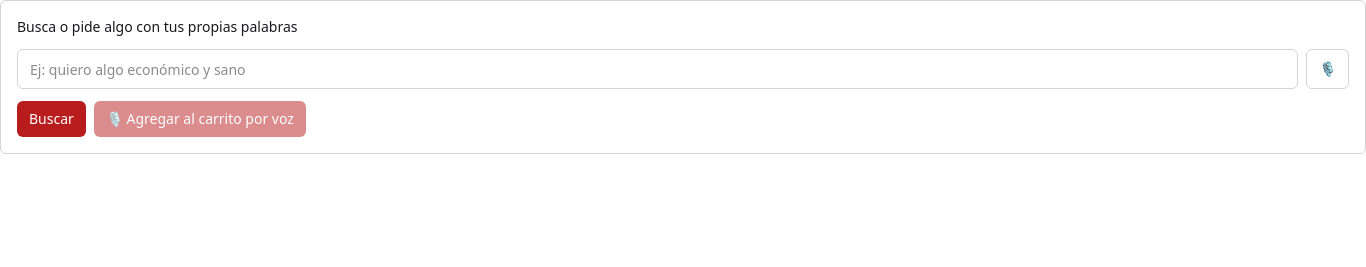
Test: BusquedaPorVoz · texto (HU-06) › renderiza el estado de aclaración con sus opciones
The width and height of the screenshot is (1366, 267).
Step 1. Type "algo liviano" into the field labelled "Busca o pide algo con tus propias palabras" → (658, 69), box [17,49,1298,89]
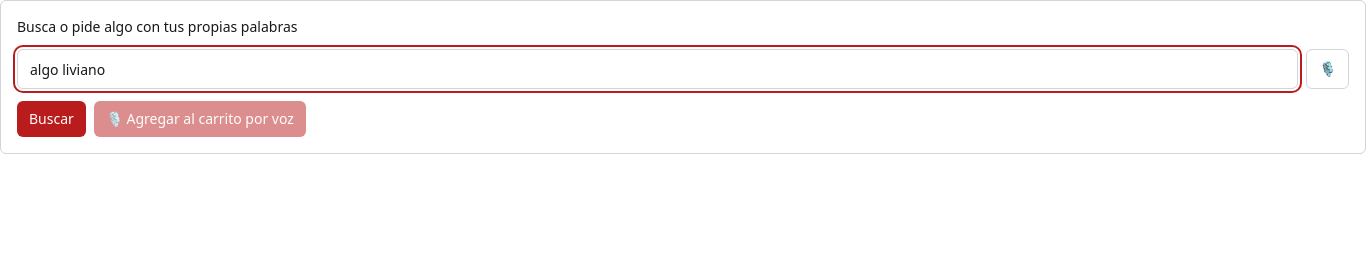
Step 2. Click the button "Buscar" → (51, 119), box [17,101,86,137]
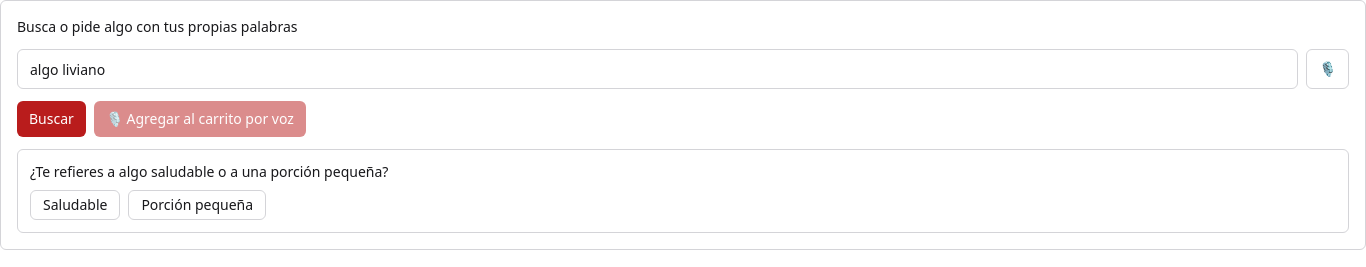
Result: the text "¿Te refieres a algo saludable o a una porción pequeña?" is shown at [30,162,388,181]
Result: the button "Saludable" is shown at [30,190,120,220]
